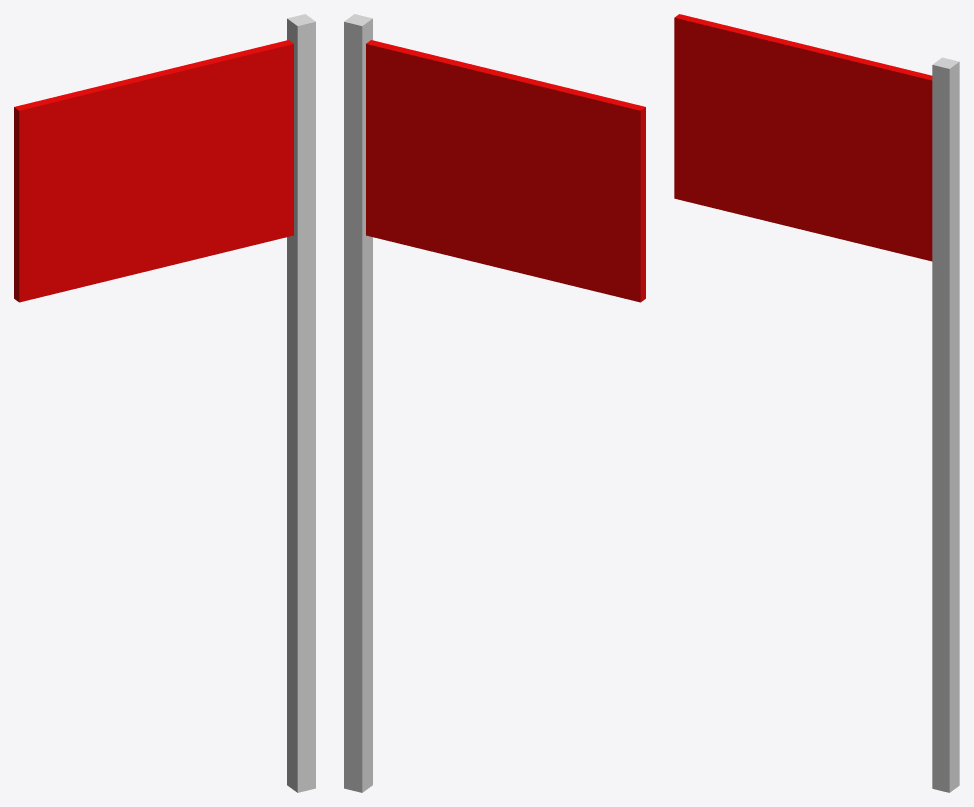
The model's file is flag.fbx.
The picture shows the model from 3 angles, left to right: view 1: azimuth 30°, elevation 25°; view 2: azimuth 150°, elevation 25°; view 3: azimuth 330°, elevation 25°; orthographic projection. The views are drawn at different scales.
Visible parts, largest first — view 1: Cube; view 2: Cube; view 3: Cube.
Part boxes in pixels (x1=…): Cube: x1=14, y1=14, x2=315, y2=792; Cube: x1=344, y1=14, x2=645, y2=792; Cube: x1=674, y1=14, x2=959, y2=792.
Size of the model in its own units: 161 by 400 by 10.
